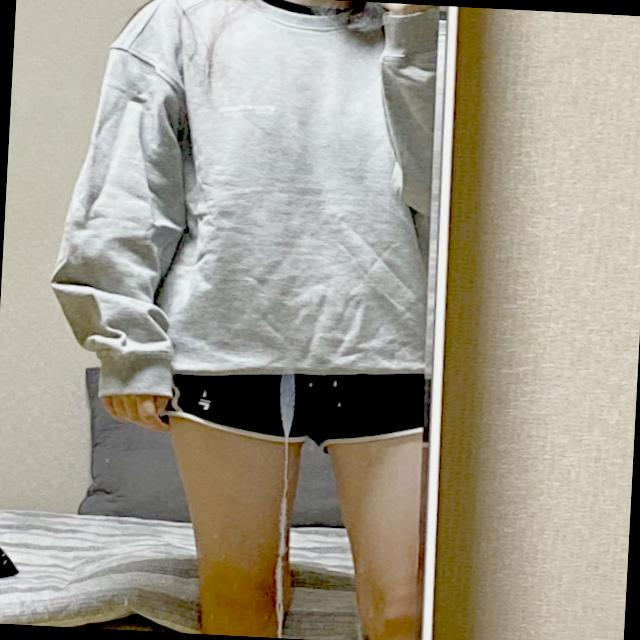hoodies: (47, 0, 445, 422)
